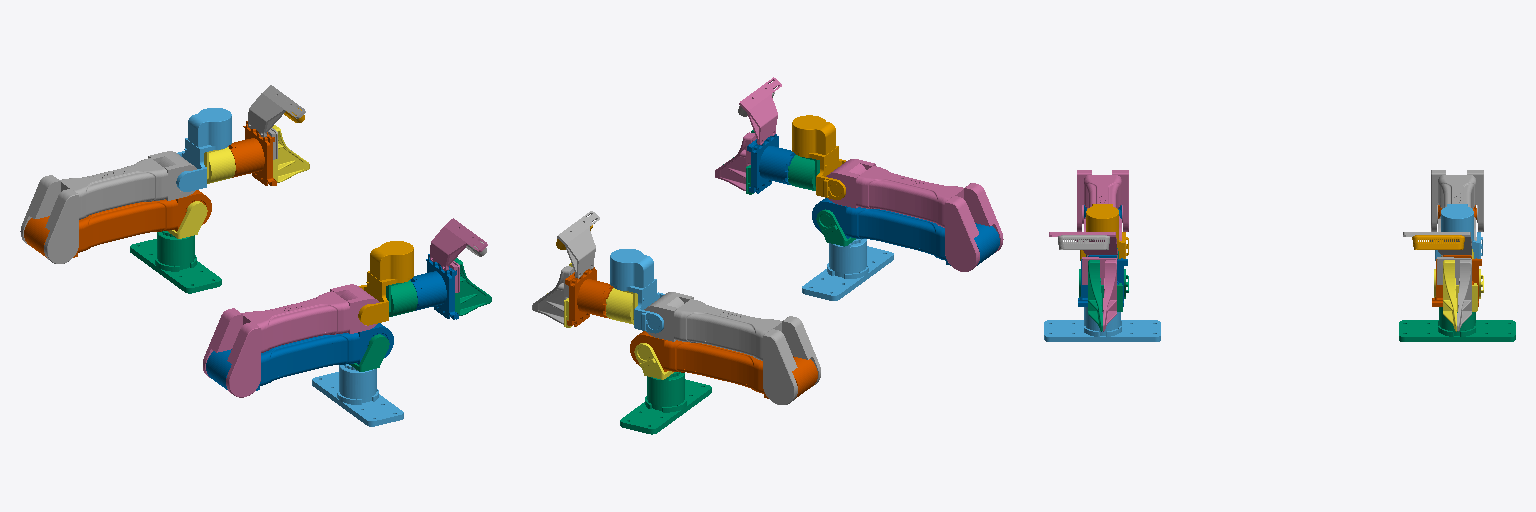
--- Render facts (derived) ---
3 views of the same robot in one strip: view 1: azimuth 30°, elevation 25°; view 2: azimuth 150°, elevation 25°; view 3: azimuth 270°, elevation 25° (orthographic).
Model rtop_design with 48 links and 47 joints (12 revolute, 4 prismatic, 31 fixed), rooted at world, posed all joints at 0.
Visible links, largest first — view 1: right_link_3, left_link_3, right_link_2, left_link_2, right_arm, left_arm, left_link_4, right_link_4, left_link_6, right_link_6, left_camera_support, right_camera_support (+6 smaller); view 2: left_link_3, right_link_3, left_link_2, right_link_2, right_arm, left_arm, left_link_4, right_link_4, right_link_6, left_link_6, right_camera_support, left_camera_support (+6 smaller); view 3: left_arm, right_arm, left_link_3, right_link_3, left_link_left_finger, right_link_left_finger, right_link_4, left_link_4, right_link_right_finger, left_link_right_finger, left_d435, right_d435 (+2 smaller).
Boxes of the visible links, left/top/right/bottom form: right_link_3: left=203, top=284, right=379, bottom=397; left_link_3: left=20, top=151, right=196, bottom=263; right_link_2: left=206, top=323, right=393, bottom=390; left_link_2: left=24, top=190, right=211, bottom=257; right_arm: left=312, top=364, right=403, bottom=426; left_arm: left=130, top=231, right=221, bottom=293; left_link_4: left=176, top=108, right=231, bottom=191; right_link_4: left=358, top=241, right=413, bottom=325; left_link_6: left=228, top=121, right=276, bottom=185; right_link_6: left=410, top=254, right=458, bottom=319; left_camera_support: left=248, top=85, right=305, bottom=137; right_camera_support: left=430, top=218, right=487, bottom=270; left_link_3: left=644, top=292, right=820, bottom=404; right_link_3: left=826, top=159, right=1003, bottom=271; left_link_2: left=630, top=331, right=817, bottom=398; right_link_2: left=812, top=198, right=999, bottom=265; right_arm: left=802, top=239, right=893, bottom=300; left_arm: left=620, top=372, right=711, bottom=434; left_link_4: left=610, top=249, right=664, bottom=333; right_link_4: left=792, top=115, right=845, bottom=199; right_link_6: left=747, top=134, right=795, bottom=193; left_link_6: left=565, top=267, right=613, bottom=326; right_camera_support: left=739, top=77, right=781, bottom=144; left_camera_support: left=557, top=211, right=599, bottom=278; left_arm: left=1399, top=307, right=1515, bottom=341; right_arm: left=1044, top=307, right=1160, bottom=341; left_link_3: left=1431, top=170, right=1483, bottom=240; right_link_3: left=1077, top=170, right=1128, bottom=240; left_link_left_finger: left=1437, top=257, right=1471, bottom=331; right_link_left_finger: left=1082, top=257, right=1116, bottom=331; right_link_4: left=1080, top=204, right=1128, bottom=260; left_link_4: left=1435, top=204, right=1482, bottom=260; right_link_right_finger: left=1088, top=260, right=1122, bottom=331; left_link_right_finger: left=1443, top=260, right=1477, bottom=331; left_d435: left=1412, top=235, right=1464, bottom=249; right_d435: left=1058, top=235, right=1109, bottom=249.
Bounding box of the posed robot: 0.5326 × 0.81 × 0.2846 m (x, y, z).
Meshes: 20 distinct files referenced, 38 mesh visuals loaded (1 binary STL, 18 OBJ); not drawn: 1 (reference not matched to a file when rendering).

The robot description file, URDF, robot "rtop_design":
<?xml version="1.0" ?>
<!-- =================================================================================== -->
<!-- |    This document was autogenerated by xacro from rtop_design.urdf.xacro         | -->
<!-- |    EDITING THIS FILE BY HAND IS NOT RECOMMENDED                                 | -->
<!-- =================================================================================== -->
<robot name="rtop_design">
  <!-- Base link (body) -->
  <link name="base">
    <inertial>
      <origin rpy="0.0 0.0 1.5708" xyz="0.0 0.0 0.0"/>
      <mass value="10.0"/>
      <inertia ixx="1.0" ixy="0" ixz="0" iyy="1.0" iyz="0" izz="1.0"/>
    </inertial>
    <visual name="base_visual">
      <origin rpy="0.0 0.0 1.5708" xyz="0.0 0.0 0.0"/>
      <geometry>
        <mesh filename="package://rtop_description/meshes/body_design.obj"/>
      </geometry>
    </visual>
    <collision name="base_collision">
      <origin rpy="0.0 0.0 1.5708" xyz="0.0 0.0 0.0"/>
      <geometry>
        <mesh filename="package://rtop_description/meshes/body_design.obj"/>
      </geometry>
    </collision>
  </link>
  <!-- World link -->
  <link name="world">
    <inertial>
      <origin rpy="0.0 0.0 0.0" xyz="0.0 0.0 0.0"/>
      <mass value="0.0"/>
      <inertia ixx="0.0" ixy="0" ixz="0" iyy="0.0" iyz="0" izz="0.0"/>
    </inertial>
  </link>
  <!-- Joint from world to base -->
  <joint name="world_to_base" type="fixed">
    <parent link="world"/>
    <child link="base"/>
    <origin rpy="0.0 0.0 0.0" xyz="0.0 0.0 0.0"/>
  </joint>
  <!-- Arm base link -->
  <link name="left_arm">
    <inertial>
      <origin rpy="0.0 0.0 0.0" xyz="0.0 0.0 0.026"/>
      <mass value="0.21895644158459424"/>
      <inertia ixx="0.00013879124248906134" ixy="0" ixz="0" iyy="0.00013879124248906134" iyz="0" izz="0.00010282878735692499"/>
    </inertial>
    <visual name="left_model2">
      <origin rpy="1.5701130102263443 0.005344186766801151 -3.1414365496107033" xyz="-2.0738360577213484e-05 2.041311002275178e-05 0.01154286287615687"/>
      <geometry>
        <mesh filename="package://yam_arm_description/meshes/converted_model2_808080ff.obj"/>
      </geometry>
    </visual>
    <collision name="left_model2_collision">
      <origin rpy="1.5701130102263443 0.005344186766801151 -3.1414365496107033" xyz="-2.0738360577213484e-05 2.041311002275178e-05 0.01154286287615687"/>
      <geometry>
        <mesh filename="package://yam_arm_description/meshes/converted_model2_808080ff.obj"/>
      </geometry>
    </collision>
  </link>
  <joint name="left_parent2arm_fixed" type="fixed">
    <parent link="base"/>
    <child link="left_arm"/>
    <origin rpy="0.0 0.0 0.0" xyz="0.0 0.305 1.0"/>
  </joint>
  <!-- Link 1 -->
  <link name="left_link_1">
    <inertial>
      <origin rpy="1.6743480392523338 -0.6015439689011491 1.5666873963753192" xyz="-0.00192861 -0.00795735 0.0208176"/>
      <mass value="0.12415"/>
      <inertia ixx="0.000180751" ixy="0" ixz="0" iyy="0.000145532" iyz="0" izz="5.89179e-05"/>
    </inertial>
    <visual name="left_model2__2">
      <origin rpy="1.5650454550240567 -0.6317582807873867 1.5710673633815686" xyz="0.0007117901440024366 -0.008267794027987337 0.022250179687008112"/>
      <geometry>
        <mesh filename="package://yam_arm_description/meshes/converted_model2__2_808080ff.obj"/>
      </geometry>
    </visual>
    <collision name="left_model2__2_collision">
      <origin rpy="1.5650454550240567 -0.6317582807873867 1.5710673633815686" xyz="0.0007117901440024366 -0.008267794027987337 0.022250179687008112"/>
      <geometry>
        <mesh filename="package://yam_arm_description/meshes/converted_model2__2_808080ff.obj"/>
      </geometry>
    </collision>
  </link>
  <link name="left_joint1_link">
    <inertial>
      <origin rpy="0.0 0.0 0.0" xyz="0.0 0.0 0.0"/>
      <mass value="0.001"/>
      <inertia ixx="1e-09" ixy="0" ixz="0" iyy="1e-09" iyz="0" izz="1e-09"/>
    </inertial>
  </link>
  <joint name="left_joint1" type="revolute">
    <parent link="left_arm"/>
    <child link="left_joint1_link"/>
    <origin rpy="0.0 0.0 1.5707963267948963" xyz="0.0 0.0 0.0631"/>
    <axis xyz="0.0 0.0 1.0"/>
    <limit effort="100" lower="-2.61799" upper="3.05433" velocity="100"/>
  </joint>
  <joint name="left_joint1_offset" type="fixed">
    <parent link="left_joint1_link"/>
    <child link="left_link_1"/>
    <origin rpy="0.0 0.0 0.0" xyz="-0.0 -0.0 -0.0"/>
  </joint>
  <!-- Link 2 -->
  <link name="left_link_2">
    <inertial>
      <origin rpy="1.5707963267948966 0.0 1.5707963267948966" xyz="0.132008 2.10599e-06 0.000293073"/>
      <mass value="1.24434"/>
      <inertia ixx="0.0121902" ixy="0" ixz="0" iyy="0.0121318" iyz="0" izz="0.000683304"/>
    </inertial>
    <visual name="left_model2__3">
      <origin rpy="0.0012886015838013758 0.0 1.5707963267948966" xyz="0.26007948449650414 2.5977632368834325e-07 0.00022869283697025413"/>
      <geometry>
        <mesh filename="package://yam_arm_description/meshes/converted_model2__3_808080ff.obj"/>
      </geometry>
    </visual>
    <collision name="left_model2__3_collision">
      <origin rpy="0.0012886015838013758 0.0 1.5707963267948966" xyz="0.26007948449650414 2.5977632368834325e-07 0.00022869283697025413"/>
      <geometry>
        <mesh filename="package://yam_arm_description/meshes/converted_model2__3_808080ff.obj"/>
      </geometry>
    </collision>
    <visual name="left_model2__4">
      <origin rpy="-0.0012886020855807743 0.0 1.5707963267948966" xyz="0.003920561027152974 2.5977629421192194e-07 0.00022869282878015162"/>
      <geometry>
        <mesh filename="package://yam_arm_description/meshes/converted_model2__4_808080ff.obj"/>
      </geometry>
    </visual>
    <collision name="left_model2__4_collision">
      <origin rpy="-0.0012886020855807743 0.0 1.5707963267948966" xyz="0.003920561027152974 2.5977629421192194e-07 0.00022869282878015162"/>
      <geometry>
        <mesh filename="package://yam_arm_description/meshes/converted_model2__4_808080ff.obj"/>
      </geometry>
    </collision>
    <visual name="left_model2__5">
      <origin rpy="1.5720341600620127 -1.5679213575591051 -1.5720413321413815" xyz="0.1320117461361114 -1.306943646950387e-05 9.079293692478702e-08"/>
      <geometry>
        <mesh filename="package://yam_arm_description/meshes/converted_model2__5_808080ff.obj"/>
      </geometry>
    </visual>
    <collision name="left_model2__5_collision">
      <origin rpy="1.5720341600620127 -1.5679213575591051 -1.5720413321413815" xyz="0.1320117461361114 -1.306943646950387e-05 9.079293692478702e-08"/>
      <geometry>
        <mesh filename="package://yam_arm_description/meshes/converted_model2__5_808080ff.obj"/>
      </geometry>
    </collision>
  </link>
  <link name="left_joint2_link">
    <inertial>
      <origin rpy="0.0 0.0 0.0" xyz="0.0 0.0 0.0"/>
      <mass value="0.001"/>
      <inertia ixx="1e-09" ixy="0" ixz="0" iyy="1e-09" iyz="0" izz="1e-09"/>
    </inertial>
  </link>
  <joint name="left_joint2" type="revolute">
    <parent link="left_link_1"/>
    <child link="left_joint2_link"/>
    <origin rpy="1.5707963267948966 0.0 1.5707963267948966" xyz="2.5e-05 -0.02 0.0409"/>
    <axis xyz="0.0 0.0 1.0"/>
    <limit effort="300" lower="-1.0e-03" upper="3.66519" velocity="100"/>
  </joint>
  <joint name="left_joint2_offset" type="fixed">
    <parent link="left_joint2_link"/>
    <child link="left_link_2"/>
    <origin rpy="0.0 0.0 0.0" xyz="-0.0 -0.0 -0.0"/>
  </joint>
  <!-- Link 3 -->
  <link name="left_link_3">
    <inertial>
      <origin rpy="1.5707963267948966 0.0 1.5707963267948966" xyz="-0.121816 -0.054846 -0.000111108"/>
      <mass value="0.853698"/>
      <inertia ixx="0.00699732" ixy="0" ixz="0" iyy="0.00696112" iyz="0" izz="0.000788244"/>
    </inertial>
    <visual name="left_model2__6">
      <origin rpy="3.0364915071378875 0.0 -1.5707963267948968" xyz="-0.24063976713274154 -0.059999782142154706 -0.003760273578300405"/>
      <geometry>
        <mesh filename="package://yam_arm_description/meshes/converted_model2__6_808080ff.obj"/>
      </geometry>
    </visual>
    <collision name="left_model2__6_collision">
      <origin rpy="3.0364915071378875 0.0 -1.5707963267948968" xyz="-0.24063976713274154 -0.059999782142154706 -0.003760273578300405"/>
      <geometry>
        <mesh filename="package://yam_arm_description/meshes/converted_model2__6_808080ff.obj"/>
      </geometry>
    </collision>
    <visual name="left_model2__7">
      <origin rpy="-2.87879006743723 1.4720957652931421 1.6013719605643306" xyz="-0.007710009148021196 -0.03486048010433765 0.0347071645682882"/>
      <geometry>
        <mesh filename="package://yam_arm_description/meshes/converted_model2__7_808080ff.obj"/>
      </geometry>
    </visual>
    <collision name="left_model2__7_collision">
      <origin rpy="-2.87879006743723 1.4720957652931421 1.6013719605643306" xyz="-0.007710009148021196 -0.03486048010433765 0.0347071645682882"/>
      <geometry>
        <mesh filename="package://yam_arm_description/meshes/converted_model2__7_808080ff.obj"/>
      </geometry>
    </collision>
    <visual name="left_model2__8">
      <origin rpy="1.5707945314613085 0.0026832997041226214 -1.570809065297576" xyz="-0.1206720859561709 -0.06001334031535149 5.408345552423209e-07"/>
      <geometry>
        <mesh filename="package://yam_arm_description/meshes/converted_model2__8_808080ff.obj"/>
      </geometry>
    </visual>
    <collision name="left_model2__8_collision">
      <origin rpy="1.5707945314613085 0.0026832997041226214 -1.570809065297576" xyz="-0.1206720859561709 -0.06001334031535149 5.408345552423209e-07"/>
      <geometry>
        <mesh filename="package://yam_arm_description/meshes/converted_model2__8_808080ff.obj"/>
      </geometry>
    </collision>
    <visual name="left_model2__9">
      <origin rpy="0.28836143122615043 1.443690062944695 -1.515041718980295" xyz="-0.008240431625057998 -0.03737256683266851 -0.033699619180835645"/>
      <geometry>
        <mesh filename="package://yam_arm_description/meshes/converted_model2__9_808080ff.obj"/>
      </geometry>
    </visual>
    <collision name="left_model2__9_collision">
      <origin rpy="0.28836143122615043 1.443690062944695 -1.515041718980295" xyz="-0.008240431625057998 -0.03737256683266851 -0.033699619180835645"/>
      <geometry>
        <mesh filename="package://yam_arm_description/meshes/converted_model2__9_808080ff.obj"/>
      </geometry>
    </collision>
  </link>
  <link name="left_joint3_link">
    <inertial>
      <origin rpy="0.0 0.0 0.0" xyz="0.0 0.0 0.0"/>
      <mass value="0.001"/>
      <inertia ixx="1e-09" ixy="0" ixz="0" iyy="1e-09" iyz="0" izz="1e-09"/>
    </inertial>
  </link>
  <joint name="left_joint3" type="revolute">
    <parent link="left_link_2"/>
    <child link="left_joint3_link"/>
    <origin rpy="3.141592653589793 0.0 0.0" xyz="0.264 0.0 0.0"/>
    <axis xyz="0.0 0.0 1.0"/>
    <limit effort="300" lower="-1.0e-03" upper="3.66519" velocity="100"/>
  </joint>
  <joint name="left_joint3_offset" type="fixed">
    <parent link="left_joint3_link"/>
    <child link="left_link_3"/>
    <origin rpy="0.0 0.0 0.0" xyz="-0.0 -0.0 -0.0"/>
  </joint>
  <!-- Link 4 -->
  <link name="left_link_4">
    <inertial>
      <origin rpy="1.5707963267948966 0.0 -0.6801532411309218" xyz="-0.0769778 -0.0527104 0.000154878"/>
      <mass value="0.463511"/>
      <inertia ixx="0.000791532" ixy="0" ixz="0" iyy="0.000744733" iyz="0" izz="0.000282116"/>
    </inertial>
    <visual name="left_model2__10">
      <origin rpy="1.5394854457020648 0.021662003917252814 -0.7117475435376935" xyz="-0.046776068687813616 -0.038270471745625256 -0.0008915243508352188"/>
      <geometry>
        <mesh filename="package://yam_arm_description/meshes/converted_model2__10_808080ff.obj"/>
      </geometry>
    </visual>
    <collision name="left_model2__10_collision">
      <origin rpy="1.5394854457020648 0.021662003917252814 -0.7117475435376935" xyz="-0.046776068687813616 -0.038270471745625256 -0.0008915243508352188"/>
      <geometry>
        <mesh filename="package://yam_arm_description/meshes/converted_model2__10_808080ff.obj"/>
      </geometry>
    </collision>
  </link>
  <link name="left_joint4_link">
    <inertial>
      <origin rpy="0.0 0.0 0.0" xyz="0.0 0.0 0.0"/>
      <mass value="0.001"/>
      <inertia ixx="1e-09" ixy="0" ixz="0" iyy="1e-09" iyz="0" izz="1e-09"/>
    </inertial>
  </link>
  <joint name="left_joint4" type="revolute">
    <parent link="left_link_3"/>
    <child link="left_joint4_link"/>
    <origin rpy="0.0 0.0 0.0" xyz="-0.245 -0.06 0.0"/>
    <axis xyz="0.0 0.0 1.0"/>
    <limit effort="100" lower="-1.5708" upper="1.5708" velocity="100"/>
  </joint>
  <joint name="left_joint4_offset" type="fixed">
    <parent link="left_joint4_link"/>
    <child link="left_link_4"/>
    <origin rpy="0.0 0.0 0.0" xyz="-0.0 -0.0 -0.0"/>
  </joint>
  <!-- Link 5 -->
  <link name="left_link_5">
    <inertial>
      <origin rpy="0.0 0.0 0.0" xyz="3.64861e-05 0.00025665 0.0353526"/>
      <mass value="0.350962"/>
      <inertia ixx="0.000197802" ixy="0" ixz="0" iyy="0.0001775" iyz="0" izz="0.000147402"/>
    </inertial>
    <visual name="left_model2__11">
      <origin rpy="2.67318045036048 0.0016544870659682687 -0.01152938218496731" xyz="5.815639855540116e-05 -0.0005553836621680353 0.03206235288381598"/>
      <geometry>
        <mesh filename="package://yam_arm_description/meshes/converted_model2__11_808080ff.obj"/>
      </geometry>
    </visual>
    <collision name="left_model2__11_collision">
      <origin rpy="2.67318045036048 0.0016544870659682687 -0.01152938218496731" xyz="5.815639855540116e-05 -0.0005553836621680353 0.03206235288381598"/>
      <geometry>
        <mesh filename="package://yam_arm_description/meshes/converted_model2__11_808080ff.obj"/>
      </geometry>
    </collision>
  </link>
  <link name="left_joint5_link">
    <inertial>
      <origin rpy="0.0 0.0 0.0" xyz="0.0 0.0 0.0"/>
      <mass value="0.001"/>
      <inertia ixx="1e-09" ixy="0" ixz="0" iyy="1e-09" iyz="0" izz="1e-09"/>
    </inertial>
  </link>
  <joint name="left_joint5" type="revolute">
    <parent link="left_link_4"/>
    <child link="left_joint5_link"/>
    <origin rpy="-1.5707963267948966 1.5707963267948966 0.0" xyz="-0.074 -0.0395 2.5e-05"/>
    <axis xyz="0.0 0.0 1.0"/>
    <limit effort="100" lower="-1.5708" upper="1.5708" velocity="100"/>
  </joint>
  <joint name="left_joint5_offset" type="fixed">
    <parent link="left_joint5_link"/>
    <child link="left_link_5"/>
    <origin rpy="0.0 0.0 0.0" xyz="-0.0 -0.0 -0.0"/>
  </joint>
  <!-- Link 6 -->
  <link name="left_link_6">
    <inertial>
      <origin rpy="1.5707963267948963 0.0 0.0" xyz="-0.000217767 7.37059e-05 0.0270545"/>
      <mass value="0.367476"/>
      <inertia ixx="0.000265958" ixy="0" ixz="0" iyy="0.000242686" iyz="0" izz="0.000227409"/>
    </inertial>
    <visual name="left_model2__12">
      <origin rpy="-1.7453668887584697 1.565490971850807 -1.9699125405676954" xyz="8.788302043375991e-05 0.0001190912220788709 0.05116721790419726"/>
      <geometry>
        <mesh filename="package://yam_arm_description/meshes/converted_model2__12_808080ff.obj"/>
      </geometry>
    </visual>
    <collision name="left_model2__12_collision">
      <origin rpy="-1.7453668887584697 1.565490971850807 -1.9699125405676954" xyz="8.788302043375991e-05 0.0001190912220788709 0.05116721790419726"/>
      <geometry>
        <mesh filename="package://yam_arm_description/meshes/converted_model2__12_808080ff.obj"/>
      </geometry>
    </collision>
    <visual name="left_model2__13">
      <origin rpy="-1.5799559470247646 0.8170286688385331 -0.14641337505452354" xyz="-0.00017825474995774047 1.6195054943213272e-05 0.03422382038141725"/>
      <geometry>
        <mesh filename="package://yam_arm_description/meshes/converted_model2__13_808080ff.obj"/>
      </geometry>
    </visual>
    <collision name="left_model2__13_collision">
      <origin rpy="-1.5799559470247646 0.8170286688385331 -0.14641337505452354" xyz="-0.00017825474995774047 1.6195054943213272e-05 0.03422382038141725"/>
      <geometry>
        <mesh filename="package://yam_arm_description/meshes/converted_model2__13_808080ff.obj"/>
      </geometry>
    </collision>
  </link>
  <link name="left_joint6_link">
    <inertial>
      <origin rpy="0.0 0.0 0.0" xyz="0.0 0.0 0.0"/>
      <mass value="0.001"/>
      <inertia ixx="1e-09" ixy="0" ixz="0" iyy="1e-09" iyz="0" izz="1e-09"/>
    </inertial>
  </link>
  <joint name="left_joint6" type="revolute">
    <parent link="left_link_5"/>
    <child link="left_joint6_link"/>
    <origin rpy="-1.5707963267948963 0.0 0.0" xyz="0.0 0.0353 0.0395"/>
    <axis xyz="0.0 0.0 1.0"/>
    <limit effort="100" lower="-2.0944" upper="2.0944" velocity="100"/>
  </joint>
  <joint name="left_joint6_offset" type="fixed">
    <parent link="left_joint6_link"/>
    <child link="left_link_6"/>
    <origin rpy="0.0 0.0 0.0" xyz="-0.0 -0.0 -0.0"/>
  </joint>
  <!-- Gripper: Left Finger -->
  <link name="left_link_left_finger">
    <inertial>
      <origin rpy="1.401155911297378 -0.506095322833723 -0.42940521230428" xyz="-0.0192995 -0.0365902 0.039774"/>
      <mass value="0.118"/>
      <inertia ixx="0.000159084" ixy="0" ixz="0" iyy="0.000154909" iyz="0" izz="4.63655e-05"/>
    </inertial>
    <visual name="left_model2__14">
      <origin rpy="1.2436149090470108 -1.3351755324428634 3.1192068678405445" xyz="-0.02621919095860112 -0.050961301789609365 0.04847966761952425"/>
      <geometry>
        <mesh filename="package://yam_arm_description/meshes/converted_model2__14_808080ff.obj"/>
      </geometry>
    </visual>
    <collision name="left_model2__14_collision">
      <origin rpy="1.2436149090470108 -1.3351755324428634 3.1192068678405445" xyz="-0.02621919095860112 -0.050961301789609365 0.04847966761952425"/>
      <geometry>
        <mesh filename="package://yam_arm_description/meshes/converted_model2__14_808080ff.obj"/>
      </geometry>
    </collision>
    <visual name="left_model2__15">
      <origin rpy="-0.08499655397451025 -0.08210615684708134 0.012014286826329146" xyz="-0.0018267628293356375 -0.014013453565219658 0.02860778296204746"/>
      <geometry>
        <mesh filename="package://yam_arm_description/meshes/converted_model2__15_808080ff.obj"/>
      </geometry>
    </visual>
    <collision name="left_model2__15_collision">
      <origin rpy="-0.08499655397451025 -0.08210615684708134 0.012014286826329146" xyz="-0.0018267628293356375 -0.014013453565219658 0.02860778296204746"/>
      <geometry>
        <mesh filename="package://yam_arm_description/meshes/converted_model2__15_808080ff.obj"/>
      </geometry>
    </collision>
  </link>
  <link name="left_left_finger_link">
    <inertial>
      <origin rpy="0.0 0.0 0.0" xyz="0.0 0.0 0.0"/>
      <mass value="0.001"/>
      <inertia ixx="1e-09" ixy="0" ixz="0" iyy="1e-09" iyz="0" izz="1e-09"/>
    </inertial>
  </link>
  <joint name="left_left_finger" type="prismatic">
    <parent link="left_link_6"/>
    <child link="left_left_finger_link"/>
    <origin rpy="-0.0 1.5707963267948966 0.0" xyz="-0.037 0.0392 0.0605"/>
    <axis xyz="0.0 0.0 1.0"/>
    <limit effort="100" lower="-0.00205" upper="0.037524" velocity="100"/>
  </joint>
  <joint name="left_left_finger_offset" type="fixed">
    <parent link="left_left_finger_link"/>
    <child link="left_link_left_finger"/>
    <origin rpy="0.0 0.0 0.0" xyz="-0.0 -0.0 -0.0"/>
  </joint>
  <link name="left_lf_rot">
    <inertial>
      <origin rpy="2.03719733945046 0.34503462898803194 1.5781769326774222" xyz="-0.008421052631578949 -0.015789473684210527 0.020421052631578947"/>
      <mass value="0.039793506945470715"/>
      <inertia ixx="2.3910376870188726e-05" ixy="0" ixz="0" iyy="2.0730203360923295e-05" iyz="0" izz="5.660176249101842e-06"/>
    </inertial>
  </link>
  <joint name="left_link_left_finger2lf_rot_fixed" type="fixed">
    <parent link="left_link_left_finger"/>
    <child link="left_lf_rot"/>
    <origin rpy="-1.5707963267948966 0.0 1.5707963267948966" xyz="0.0 -0.0392 0.037"/>
  </joint>
  <link name="left_lf_down">
    <inertial>
      <origin rpy="0.25192924677866 0.2603701692584921 1.7911531458129852" xyz="0.004865675005941529 -0.012786258560154471 0.029346031921652322"/>
      <mass value="0.02077574023677297"/>
      <inertia ixx="1.5767067212852193e-05" ixy="0" ixz="0" iyy="1.3071054583294231e-05" iyz="0" izz="3.94367471938606e-06"/>
    </inertial>
  </link>
  <joint name="left_lf_rot2lf_down_fixed" type="fixed">
    <parent link="left_lf_rot"/>
    <child link="left_lf_down"/>
    <origin rpy="0.0 0.0 0.0" xyz="-0.044 0.0 0.0"/>
  </joint>
  <!-- Gripper: Right Finger -->
  <link name="left_link_right_finger">
    <inertial>
      <origin rpy="-1.401155911297378 0.506095322833723 -0.42940521230428" xyz="-0.0192995 0.0365902 -0.039774"/>
      <mass value="0.118"/>
      <inertia ixx="0.000159084" ixy="0" ixz="0" iyy="0.000154909" iyz="0" izz="4.63655e-05"/>
    </inertial>
    <visual name="left_model2__16">
      <origin rpy="-0.08499624911644794 0.08210615585822456 -0.012014239544932078" xyz="-0.001826763203738313 0.014013021507929144 -0.02860778467768097"/>
      <geometry>
        <mesh filename="package://yam_arm_description/meshes/converted_model2__16_808080ff.obj"/>
      </geometry>
    </visual>
    <collision name="left_model2__16_collision">
      <origin rpy="-0.08499624911644794 0.08210615585822456 -0.012014239544932078" xyz="-0.001826763203738313 0.014013021507929144 -0.02860778467768097"/>
      <geometry>
        <mesh filename="package://yam_arm_description/meshes/converted_model2__16_808080ff.obj"/>
      </geometry>
    </collision>
    <visual name="left_model2__17">
      <origin rpy="-1.8906094630983066 -1.338715519977303 -0.013733131456833558" xyz="-0.026152342123741346 0.026813733867866105 -0.04844908896546901"/>
      <geometry>
        <mesh filename="package://yam_arm_description/meshes/converted_model2__17_808080ff.obj"/>
      </geometry>
    </visual>
    <collision name="left_model2__17_collision">
      <origin rpy="-1.8906094630983066 -1.338715519977303 -0.013733131456833558" xyz="-0.026152342123741346 0.026813733867866105 -0.04844908896546901"/>
      <geometry>
        <mesh filename="package://yam_arm_description/meshes/converted_model2__17_808080ff.obj"/>
      </geometry>
    </collision>
  </link>
  <link name="left_right_finger_link">
    <inertial>
      <origin rpy="0.0 0.0 0.0" xyz="0.0 0.0 0.0"/>
      <mass value="0.001"/>
      <inertia ixx="1e-09" ixy="0" ixz="0" iyy="1e-09" iyz="0" izz="1e-09"/>
    </inertial>
  </link>
  <joint name="left_right_finger" type="prismatic">
    <parent link="left_link_6"/>
    <child link="left_right_finger_link"/>
    <origin rpy="-0.0 1.5707963267948966 0.0" xyz="0.037 -0.0392 0.0605"/>
    <axis xyz="0.0 0.0 1.0"/>
    <limit effort="100" lower="-0.037524" upper="0.00205" velocity="100"/>
    <mimic joint="left_left_finger" multiplier="-1" offset="0"/>
  </joint>
  <joint name="left_right_finger_offset" type="fixed">
    <parent link="left_right_finger_link"/>
    <child link="left_link_right_finger"/>
    <origin rpy="0.0 0.0 0.0" xyz="-0.0 -0.0 -0.0"/>
  </joint>
  <link name="left_rf_rot">
    <inertial>
      <origin rpy="1.1043953141393332 0.34503462898803194 1.563415720912371" xyz="0.008421052631578949 -0.015789473684210527 0.020421052631578947"/>
      <mass value="0.039793506945470715"/>
      <inertia ixx="2.3910376870188726e-05" ixy="0" ixz="0" iyy="2.0730203360923295e-05" iyz="0" izz="5.660176249101842e-06"/>
    </inertial>
  </link>
  <joint name="left_link_right_finger2rf_rot_fixed" type="fixed">
    <parent link="left_link_right_finger"/>
    <child link="left_rf_rot"/>
    <origin rpy="1.5707963267948966 0.0 -1.5707963267948966" xyz="0.0 0.0392 -0.037"/>
  </joint>
  <link name="left_rf_down">
    <inertial>
      <origin rpy="-0.25192924677866 0.2603701692584921 1.3504395077768079" xyz="-0.004865675005941529 -0.012786258560154471 0.029346031921652322"/>
      <mass value="0.02077574023677297"/>
      <inertia ixx="1.5767067212852193e-05" ixy="0" ixz="0" iyy="1.3071054583294231e-05" iyz="0" izz="3.94367471938606e-06"/>
    </inertial>
  </link>
  <joint name="left_rf_rot2rf_down_fixed" type="fixed">
    <parent link="left_rf_rot"/>
    <child link="left_rf_down"/>
    <origin rpy="0.0 0.0 0.0" xyz="0.044 0.0 0.0"/>
  </joint>
  <link name="left_camera_support">
    <inertial>
      <origin rpy="0.0 0.0 0.0" xyz="0.0 0.0 0.0"/>
      <mass value="0.1"/>
      <inertia ixx="0.0001" ixy="0" ixz="0" iyy="0.0001" iyz="0" izz="0.0001"/>
    </inertial>
    <visual name="left_camera_support_visual">
      <origin rpy="0.0 0.0 0.0" xyz="0.0 0.0 0.0"/>
      <geometry>
        <mesh filename="package://yam_arm_description/meshes/camera_support.stl"/>
      </geometry>
    </visual>
    <collision name="left_camera_support_collision">
      <origin rpy="0.0 0.0 0.0" xyz="0.0 0.0 0.0"/>
      <geometry>
        <mesh filename="package://yam_arm_description/meshes/camera_support.stl"/>
      </geometry>
    </collision>
  </link>
  <joint name="left_link_6_to_camera_support_fixed" type="fixed">
    <parent link="left_link_6"/>
    <child link="left_camera_support"/>
    <origin rpy="1.5708 1.5708 3.14159" xyz="-0.02618 0.04089 0.05052"/>
  </joint>
  <link name="left_d435">
    <inertial>
      <origin rpy="0.0 0.0 0.0" xyz="0.0 0.0 0.0"/>
      <mass value="0.072"/>
      <inertia ixx="0.0001" ixy="0" ixz="0" iyy="0.0001" iyz="0" izz="0.0001"/>
    </inertial>
    <visual name="left_d435_visual">
      <origin rpy="0.0 0.0 0.0" xyz="0.0 0.0 0.0"/>
      <geometry>
        <mesh filename="package://yam_arm_description/meshes/D435.obj"/>
      </geometry>
    </visual>
    <collision name="left_d435_collision">
      <origin rpy="0.0 0.0 0.0" xyz="0.0 0.0 0.0"/>
      <geometry>
        <mesh filename="package://yam_arm_description/meshes/D435.obj"/>
      </geometry>
    </collision>
  </link>
  <joint name="left_camera_support2d435_fixed" type="fixed">
    <parent link="left_camera_support"/>
    <child link="left_d435"/>
    <origin rpy="2.6180 0.0 -1.5708" xyz="-0.03014 0.00604 0.06023"/>
  </joint>
  <!-- Arm base link -->
  <link name="right_arm">
    <inertial>
      <origin rpy="0.0 0.0 0.0" xyz="0.0 0.0 0.026"/>
      <mass value="0.21895644158459424"/>
      <inertia ixx="0.00013879124248906134" ixy="0" ixz="0" iyy="0.00013879124248906134" iyz="0" izz="0.00010282878735692499"/>
    </inertial>
    <visual name="right_model2">
      <origin rpy="1.5701130102263443 0.005344186766801151 -3.1414365496107033" xyz="-2.0738360577213484e-05 2.041311002275178e-05 0.01154286287615687"/>
      <geometry>
        <mesh filename="package://yam_arm_description/meshes/converted_model2_808080ff.obj"/>
      </geometry>
    </visual>
    <collision name="right_model2_collision">
      <origin rpy="1.5701130102263443 0.005344186766801151 -3.1414365496107033" xyz="-2.0738360577213484e-05 2.041311002275178e-05 0.01154286287615687"/>
      <geometry>
        <mesh filename="package://yam_arm_description/meshes/converted_model2_808080ff.obj"/>
      </geometry>
    </collision>
  </link>
  <joint name="right_parent2arm_fixed" type="fixed">
    <parent link="base"/>
    <child link="right_arm"/>
    <origin rpy="0.0 0.0 0.0" xyz="0.0 -0.305 1.0"/>
  </joint>
  <!-- Link 1 -->
  <link name="right_link_1">
    <inertial>
      <origin rpy="1.6743480392523338 -0.6015439689011491 1.5666873963753192" xyz="-0.00192861 -0.00795735 0.0208176"/>
      <mass value="0.12415"/>
      <inertia ixx="0.000180751" ixy="0" ixz="0" iyy="0.000145532" iyz="0" izz="5.89179e-05"/>
    </inertial>
    <visual name="right_model2__2">
      <origin rpy="1.5650454550240567 -0.6317582807873867 1.5710673633815686" xyz="0.0007117901440024366 -0.008267794027987337 0.022250179687008112"/>
      <geometry>
        <mesh filename="package://yam_arm_description/meshes/converted_model2__2_808080ff.obj"/>
      </geometry>
    </visual>
    <collision name="right_model2__2_collision">
      <origin rpy="1.5650454550240567 -0.6317582807873867 1.5710673633815686" xyz="0.0007117901440024366 -0.008267794027987337 0.022250179687008112"/>
      <geometry>
        <mesh filename="package://yam_arm_description/meshes/converted_model2__2_808080ff.obj"/>
      </geometry>
    </collision>
  </link>
  <link name="right_joint1_link">
    <inertial>
      <origin rpy="0.0 0.0 0.0" xyz="0.0 0.0 0.0"/>
      <mass value="0.001"/>
      <inertia ixx="1e-09" ixy="0" ixz="0" iyy="1e-09" iyz="0" izz="1e-09"/>
    </inertial>
  </link>
  <joint name="right_joint1" type="revolute">
    <parent link="right_arm"/>
    <child link="right_joint1_link"/>
    <origin rpy="0.0 0.0 1.5707963267948963" xyz="0.0 0.0 0.0631"/>
    <axis xyz="0.0 0.0 1.0"/>
    <limit effort="100" lower="-2.61799" upper="3.05433" velocity="100"/>
  </joint>
  <joint name="right_joint1_offset" type="fixed">
    <parent link="right_joint1_link"/>
    <child link="right_link_1"/>
    <origin rpy="0.0 0.0 0.0" xyz="-0.0 -0.0 -0.0"/>
  </joint>
  <!-- Link 2 -->
  <link name="right_link_2">
    <inertial>
      <origin rpy="1.5707963267948966 0.0 1.5707963267948966" xyz="0.132008 2.10599e-06 0.000293073"/>
      <mass value="1.24434"/>
      <inertia ixx="0.0121902" ixy="0" ixz="0" iyy="0.0121318" iyz="0" izz="0.000683304"/>
    </inertial>
    <visual name="right_model2__3">
      <origin rpy="0.0012886015838013758 0.0 1.5707963267948966" xyz="0.26007948449650414 2.5977632368834325e-07 0.00022869283697025413"/>
      <geometry>
        <mesh filename="package://yam_arm_description/meshes/converted_model2__3_808080ff.obj"/>
      </geometry>
    </visual>
    <collision name="right_model2__3_collision">
      <origin rpy="0.0012886015838013758 0.0 1.5707963267948966" xyz="0.26007948449650414 2.5977632368834325e-07 0.00022869283697025413"/>
      <geometry>
        <mesh filename="package://yam_arm_description/meshes/converted_model2__3_808080ff.obj"/>
      </geometry>
    </collision>
    <visual name="right_model2__4">
      <origin rpy="-0.0012886020855807743 0.0 1.5707963267948966" xyz="0.003920561027152974 2.5977629421192194e-07 0.00022869282878015162"/>
      <geometry>
        <mesh filename="package://yam_arm_description/meshes/converted_model2__4_808080ff.obj"/>
      </geometry>
    </visual>
    <collision name="right_model2__4_collision">
      <origin rpy="-0.0012886020855807743 0.0 1.5707963267948966" xyz="0.003920561027152974 2.5977629421192194e-07 0.00022869282878015162"/>
      <geometry>
        <mesh filename="package://yam_arm_description/meshes/converted_model2__4_808080ff.obj"/>
      </geometry>
    </collision>
    <visual name="right_model2__5">
      <origin rpy="1.5720341600620127 -1.5679213575591051 -1.5720413321413815" xyz="0.1320117461361114 -1.306943646950387e-05 9.079293692478702e-08"/>
      <geometry>
        <mesh filename="package://yam_arm_description/meshes/converted_model2__5_808080ff.obj"/>
      </geometry>
    </visual>
    <collision name="right_model2__5_collision">
      <origin rpy="1.5720341600620127 -1.5679213575591051 -1.5720413321413815" xyz="0.1320117461361114 -1.306943646950387e-05 9.079293692478702e-08"/>
      <geometry>
        <mesh filename="package://yam_arm_description/meshes/converted_model2__5_808080ff.obj"/>
      </geometry>
    </collision>
  </link>
  <link name="right_joint2_link">
    <inertial>
      <origin rpy="0.0 0.0 0.0" xyz="0.0 0.0 0.0"/>
      <mass value="0.001"/>
      <inertia ixx="1e-09" ixy="0" ixz="0" iyy="1e-09" iyz="0" izz="1e-09"/>
    </inertial>
  </link>
  <joint name="right_joint2" type="revolute">
    <parent link="right_link_1"/>
    <child link="right_joint2_link"/>
    <origin rpy="1.5707963267948966 0.0 1.5707963267948966" xyz="2.5e-05 -0.02 0.0409"/>
    <axis xyz="0.0 0.0 1.0"/>
    <limit effort="300" lower="-1.0e-03" upper="3.66519" velocity="100"/>
  </joint>
  <joint name="right_joint2_offset" type="fixed">
    <parent link="right_joint2_link"/>
    <child link="right_link_2"/>
    <origin rpy="0.0 0.0 0.0" xyz="-0.0 -0.0 -0.0"/>
  </joint>
  <!-- Link 3 -->
  <link name="right_link_3">
    <inertial>
      <origin rpy="1.5707963267948966 0.0 1.5707963267948966" xyz="-0.121816 -0.054846 -0.000111108"/>
      <mass value="0.853698"/>
      <inertia ixx="0.00699732" ixy="0" ixz="0" iyy="0.00696112" iyz="0" izz="0.000788244"/>
    </inertial>
    <visual name="right_model2__6">
      <origin rpy="3.0364915071378875 0.0 -1.5707963267948968" xyz="-0.24063976713274154 -0.059999782142154706 -0.003760273578300405"/>
      <geometry>
        <mesh filename="package://yam_arm_description/meshes/converted_model2__6_808080ff.obj"/>
      </geometry>
    </visual>
    <collision name="right_model2__6_collision">
      <origin rpy="3.0364915071378875 0.0 -1.5707963267948968" xyz="-0.24063976713274154 -0.059999782142154706 -0.003760273578300405"/>
      <geometry>
        <mesh filename="package://yam_arm_description/meshes/converted_model2__6_808080ff.obj"/>
      </geometry>
    </collision>
    <visual name="right_model2__7">
      <origin rpy="-2.87879006743723 1.4720957652931421 1.6013719605643306" xyz="-0.007710009148021196 -0.03486048010433765 0.0347071645682882"/>
      <geometry>
        <mesh filename="package://yam_arm_description/meshes/converted_model2__7_808080ff.obj"/>
      </geometry>
    </visual>
    <collision name="right_model2__7_collision">
      <origin rpy="-2.87879006743723 1.4720957652931421 1.6013719605643306" xyz="-0.007710009148021196 -0.03486048010433765 0.0347071645682882"/>
      <geometry>
        <mesh filename="package://yam_arm_description/meshes/converted_model2__7_808080ff.obj"/>
      </geometry>
    </collision>
    <visual name="right_model2__8">
      <origin rpy="1.5707945314613085 0.0026832997041226214 -1.570809065297576" xyz="-0.1206720859561709 -0.06001334031535149 5.408345552423209e-07"/>
      <geometry>
        <mesh filename="package://yam_arm_description/meshes/converted_model2__8_808080ff.obj"/>
      </geometry>
    </visual>
    <collision name="right_model2__8_collision">
      <origin rpy="1.5707945314613085 0.0026832997041226214 -1.570809065297576" xyz="-0.1206720859561709 -0.06001334031535149 5.408345552423209e-07"/>
      <geometry>
        <mesh filename="package://yam_arm_description/meshes/converted_model2__8_808080ff.obj"/>
      </geometry>
    </collision>
    <visual name="right_model2__9">
      <origin rpy="0.28836143122615043 1.443690062944695 -1.515041718980295" xyz="-0.008240431625057998 -0.03737256683266851 -0.033699619180835645"/>
      <geometry>
        <mesh filename="package://yam_arm_description/meshes/converted_model2__9_808080ff.obj"/>
      </geometry>
    </visual>
    <collision name="right_model2__9_collision">
      <origin rpy="0.28836143122615043 1.443690062944695 -1.515041718980295" xyz="-0.008240431625057998 -0.03737256683266851 -0.033699619180835645"/>
      <geometry>
        <mesh filename="package://yam_arm_description/meshes/converted_model2__9_808080ff.obj"/>
      </geometry>
    </collision>
  </link>
  <link name="right_joint3_link">
    <inertial>
      <origin rpy="0.0 0.0 0.0" xyz="0.0 0.0 0.0"/>
      <mass value="0.001"/>
      <inertia ixx="1e-09" ixy="0" ixz="0" iyy="1e-09" iyz="0" izz="1e-09"/>
    </inertial>
  </link>
  <joint name="right_joint3" type="revolute">
    <parent link="right_link_2"/>
    <child link="right_joint3_link"/>
    <origin rpy="3.141592653589793 0.0 0.0" xyz="0.264 0.0 0.0"/>
    <axis xyz="0.0 0.0 1.0"/>
    <limit effort="300" lower="-1.0e-03" upper="3.66519" velocity="100"/>
  </joint>
  <joint name="right_joint3_offset" type="fixed">
    <parent link="right_joint3_link"/>
    <child link="right_link_3"/>
    <origin rpy="0.0 0.0 0.0" xyz="-0.0 -0.0 -0.0"/>
  </joint>
  <!-- Link 4 -->
  <link name="right_link_4">
    <inertial>
      <origin rpy="1.5707963267948966 0.0 -0.6801532411309218" xyz="-0.0769778 -0.0527104 0.000154878"/>
      <mass value="0.463511"/>
      <inertia ixx="0.000791532" ixy="0" ixz="0" iyy="0.000744733" iyz="0" izz="0.000282116"/>
    </inertial>
    <visual name="right_model2__10">
      <origin rpy="1.5394854457020648 0.021662003917252814 -0.7117475435376935" xyz="-0.046776068687813616 -0.038270471745625256 -0.0008915243508352188"/>
      <geometry>
        <mesh filename="package://yam_arm_description/meshes/converted_model2__10_808080ff.obj"/>
      </geometry>
    </visual>
    <collision name="right_model2__10_collision">
      <origin rpy="1.5394854457020648 0.021662003917252814 -0.7117475435376935" xyz="-0.046776068687813616 -0.038270471745625256 -0.0008915243508352188"/>
      <geometry>
        <mesh filename="package://yam_arm_description/meshes/converted_model2__10_808080ff.obj"/>
      </geometry>
    </collision>
  </link>
  <link name="right_joint4_link">
    <inertial>
      <origin rpy="0.0 0.0 0.0" xyz="0.0 0.0 0.0"/>
      <mass value="0.001"/>
      <inertia ixx="1e-09" ixy="0" ixz="0" iyy="1e-09" iyz="0" izz="1e-09"/>
    </inertial>
  </link>
  <joint name="right_joint4" type="revolute">
    <parent link="right_link_3"/>
    <child link="right_joint4_link"/>
    <origin rpy="0.0 0.0 0.0" xyz="-0.245 -0.06 0.0"/>
    <axis xyz="0.0 0.0 1.0"/>
    <limit effort="100" lower="-1.5708" upper="1.5708" velocity="100"/>
  </joint>
  <joint name="right_joint4_offset" type="fixed">
    <parent link="right_joint4_link"/>
    <child link="right_link_4"/>
    <origin rpy="0.0 0.0 0.0" xyz="-0.0 -0.0 -0.0"/>
  </joint>
  <!-- Link 5 -->
  <link name="right_link_5">
    <inertial>
      <origin rpy="0.0 0.0 0.0" xyz="3.64861e-05 0.00025665 0.0353526"/>
      <mass value="0.350962"/>
      <inertia ixx="0.000197802" ixy="0" ixz="0" iyy="0.0001775" iyz="0" izz="0.000147402"/>
    </inertial>
    <visual name="right_model2__11">
      <origin rpy="2.67318045036048 0.0016544870659682687 -0.01152938218496731" xyz="5.815639855540116e-05 -0.0005553836621680353 0.03206235288381598"/>
      <geometry>
        <mesh filename="package://yam_arm_description/meshes/converted_model2__11_808080ff.obj"/>
      </geometry>
    </visual>
    <collision name="right_model2__11_collision">
      <origin rpy="2.67318045036048 0.0016544870659682687 -0.01152938218496731" xyz="5.815639855540116e-05 -0.0005553836621680353 0.03206235288381598"/>
      <geometry>
        <mesh filename="package://yam_arm_description/meshes/converted_model2__11_808080ff.obj"/>
      </geometry>
    </collision>
  </link>
  <link name="right_joint5_link">
    <inertial>
      <origin rpy="0.0 0.0 0.0" xyz="0.0 0.0 0.0"/>
      <mass value="0.001"/>
      <inertia ixx="1e-09" ixy="0" ixz="0" iyy="1e-09" iyz="0" izz="1e-09"/>
    </inertial>
  </link>
  <joint name="right_joint5" type="revolute">
    <parent link="right_link_4"/>
    <child link="right_joint5_link"/>
    <origin rpy="-1.5707963267948966 1.5707963267948966 0.0" xyz="-0.074 -0.0395 2.5e-05"/>
    <axis xyz="0.0 0.0 1.0"/>
    <limit effort="100" lower="-1.5708" upper="1.5708" velocity="100"/>
  </joint>
  <joint name="right_joint5_offset" type="fixed">
    <parent link="right_joint5_link"/>
    <child link="right_link_5"/>
    <origin rpy="0.0 0.0 0.0" xyz="-0.0 -0.0 -0.0"/>
  </joint>
  <!-- Link 6 -->
  <link name="right_link_6">
    <inertial>
      <origin rpy="1.5707963267948963 0.0 0.0" xyz="-0.000217767 7.37059e-05 0.0270545"/>
      <mass value="0.367476"/>
      <inertia ixx="0.000265958" ixy="0" ixz="0" iyy="0.000242686" iyz="0" izz="0.000227409"/>
    </inertial>
    <visual name="right_model2__12">
      <origin rpy="-1.7453668887584697 1.565490971850807 -1.9699125405676954" xyz="8.788302043375991e-05 0.0001190912220788709 0.05116721790419726"/>
      <geometry>
        <mesh filename="package://yam_arm_description/meshes/converted_model2__12_808080ff.obj"/>
      </geometry>
    </visual>
    <collision name="right_model2__12_collision">
      <origin rpy="-1.7453668887584697 1.565490971850807 -1.9699125405676954" xyz="8.788302043375991e-05 0.0001190912220788709 0.05116721790419726"/>
      <geometry>
        <mesh filename="package://yam_arm_description/meshes/converted_model2__12_808080ff.obj"/>
      </geometry>
    </collision>
    <visual name="right_model2__13">
      <origin rpy="-1.5799559470247646 0.8170286688385331 -0.14641337505452354" xyz="-0.00017825474995774047 1.6195054943213272e-05 0.03422382038141725"/>
      <geometry>
        <mesh filename="package://yam_arm_description/meshes/converted_model2__13_808080ff.obj"/>
      </geometry>
    </visual>
    <collision name="right_model2__13_collision">
      <origin rpy="-1.5799559470247646 0.8170286688385331 -0.14641337505452354" xyz="-0.00017825474995774047 1.6195054943213272e-05 0.03422382038141725"/>
      <geometry>
        <mesh filename="package://yam_arm_description/meshes/converted_model2__13_808080ff.obj"/>
      </geometry>
    </collision>
  </link>
  <link name="right_joint6_link">
    <inertial>
      <origin rpy="0.0 0.0 0.0" xyz="0.0 0.0 0.0"/>
      <mass value="0.001"/>
      <inertia ixx="1e-09" ixy="0" ixz="0" iyy="1e-09" iyz="0" izz="1e-09"/>
    </inertial>
  </link>
  <joint name="right_joint6" type="revolute">
    <parent link="right_link_5"/>
    <child link="right_joint6_link"/>
    <origin rpy="-1.5707963267948963 0.0 0.0" xyz="0.0 0.0353 0.0395"/>
    <axis xyz="0.0 0.0 1.0"/>
    <limit effort="100" lower="-2.0944" upper="2.0944" velocity="100"/>
  </joint>
  <joint name="right_joint6_offset" type="fixed">
    <parent link="right_joint6_link"/>
    <child link="right_link_6"/>
    <origin rpy="0.0 0.0 0.0" xyz="-0.0 -0.0 -0.0"/>
  </joint>
  <!-- Gripper: Left Finger -->
  <link name="right_link_left_finger">
    <inertial>
      <origin rpy="1.401155911297378 -0.506095322833723 -0.42940521230428" xyz="-0.0192995 -0.0365902 0.039774"/>
      <mass value="0.118"/>
      <inertia ixx="0.000159084" ixy="0" ixz="0" iyy="0.000154909" iyz="0" izz="4.63655e-05"/>
    </inertial>
    <visual name="right_model2__14">
      <origin rpy="1.2436149090470108 -1.3351755324428634 3.1192068678405445" xyz="-0.02621919095860112 -0.050961301789609365 0.04847966761952425"/>
      <geometry>
        <mesh filename="package://yam_arm_description/meshes/converted_model2__14_808080ff.obj"/>
      </geometry>
    </visual>
    <collision name="right_model2__14_collision">
      <origin rpy="1.2436149090470108 -1.3351755324428634 3.1192068678405445" xyz="-0.02621919095860112 -0.050961301789609365 0.04847966761952425"/>
      <geometry>
        <mesh filename="package://yam_arm_description/meshes/converted_model2__14_808080ff.obj"/>
      </geometry>
    </collision>
    <visual name="right_model2__15">
      <origin rpy="-0.08499655397451025 -0.08210615684708134 0.012014286826329146" xyz="-0.0018267628293356375 -0.014013453565219658 0.02860778296204746"/>
      <geometry>
        <mesh filename="package://yam_arm_description/meshes/converted_model2__15_808080ff.obj"/>
      </geometry>
    </visual>
    <collision name="right_model2__15_collision">
      <origin rpy="-0.08499655397451025 -0.08210615684708134 0.012014286826329146" xyz="-0.0018267628293356375 -0.014013453565219658 0.02860778296204746"/>
      <geometry>
        <mesh filename="package://yam_arm_description/meshes/converted_model2__15_808080ff.obj"/>
      </geometry>
    </collision>
  </link>
  <link name="right_left_finger_link">
    <inertial>
      <origin rpy="0.0 0.0 0.0" xyz="0.0 0.0 0.0"/>
      <mass value="0.001"/>
      <inertia ixx="1e-09" ixy="0" ixz="0" iyy="1e-09" iyz="0" izz="1e-09"/>
    </inertial>
  </link>
  <joint name="right_left_finger" type="prismatic">
    <parent link="right_link_6"/>
    <child link="right_left_finger_link"/>
    <origin rpy="-0.0 1.5707963267948966 0.0" xyz="-0.037 0.0392 0.0605"/>
    <axis xyz="0.0 0.0 1.0"/>
    <limit effort="100" lower="-0.00205" upper="0.037524" velocity="100"/>
  </joint>
  <joint name="right_left_finger_offset" type="fixed">
    <parent link="right_left_finger_link"/>
    <child link="right_link_left_finger"/>
    <origin rpy="0.0 0.0 0.0" xyz="-0.0 -0.0 -0.0"/>
  </joint>
  <link name="right_lf_rot">
    <inertial>
      <origin rpy="2.03719733945046 0.34503462898803194 1.5781769326774222" xyz="-0.008421052631578949 -0.015789473684210527 0.020421052631578947"/>
      <mass value="0.039793506945470715"/>
      <inertia ixx="2.3910376870188726e-05" ixy="0" ixz="0" iyy="2.0730203360923295e-05" iyz="0" izz="5.660176249101842e-06"/>
    </inertial>
  </link>
  <joint name="right_link_left_finger2lf_rot_fixed" type="fixed">
    <parent link="right_link_left_finger"/>
    <child link="right_lf_rot"/>
    <origin rpy="-1.5707963267948966 0.0 1.5707963267948966" xyz="0.0 -0.0392 0.037"/>
  </joint>
  <link name="right_lf_down">
    <inertial>
      <origin rpy="0.25192924677866 0.2603701692584921 1.7911531458129852" xyz="0.004865675005941529 -0.012786258560154471 0.029346031921652322"/>
      <mass value="0.02077574023677297"/>
      <inertia ixx="1.5767067212852193e-05" ixy="0" ixz="0" iyy="1.3071054583294231e-05" iyz="0" izz="3.94367471938606e-06"/>
    </inertial>
  </link>
  <joint name="right_lf_rot2lf_down_fixed" type="fixed">
    <parent link="right_lf_rot"/>
    <child link="right_lf_down"/>
    <origin rpy="0.0 0.0 0.0" xyz="-0.044 0.0 0.0"/>
  </joint>
  <!-- Gripper: Right Finger -->
  <link name="right_link_right_finger">
    <inertial>
      <origin rpy="-1.401155911297378 0.506095322833723 -0.42940521230428" xyz="-0.0192995 0.0365902 -0.039774"/>
      <mass value="0.118"/>
      <inertia ixx="0.000159084" ixy="0" ixz="0" iyy="0.000154909" iyz="0" izz="4.63655e-05"/>
    </inertial>
    <visual name="right_model2__16">
      <origin rpy="-0.08499624911644794 0.08210615585822456 -0.012014239544932078" xyz="-0.001826763203738313 0.014013021507929144 -0.02860778467768097"/>
      <geometry>
        <mesh filename="package://yam_arm_description/meshes/converted_model2__16_808080ff.obj"/>
      </geometry>
    </visual>
    <collision name="right_model2__16_collision">
      <origin rpy="-0.08499624911644794 0.08210615585822456 -0.012014239544932078" xyz="-0.001826763203738313 0.014013021507929144 -0.02860778467768097"/>
      <geometry>
        <mesh filename="package://yam_arm_description/meshes/converted_model2__16_808080ff.obj"/>
      </geometry>
    </collision>
    <visual name="right_model2__17">
      <origin rpy="-1.8906094630983066 -1.338715519977303 -0.013733131456833558" xyz="-0.026152342123741346 0.026813733867866105 -0.04844908896546901"/>
      <geometry>
        <mesh filename="package://yam_arm_description/meshes/converted_model2__17_808080ff.obj"/>
      </geometry>
    </visual>
    <collision name="right_model2__17_collision">
      <origin rpy="-1.8906094630983066 -1.338715519977303 -0.013733131456833558" xyz="-0.026152342123741346 0.026813733867866105 -0.04844908896546901"/>
      <geometry>
        <mesh filename="package://yam_arm_description/meshes/converted_model2__17_808080ff.obj"/>
      </geometry>
    </collision>
  </link>
  <link name="right_right_finger_link">
    <inertial>
      <origin rpy="0.0 0.0 0.0" xyz="0.0 0.0 0.0"/>
      <mass value="0.001"/>
      <inertia ixx="1e-09" ixy="0" ixz="0" iyy="1e-09" iyz="0" izz="1e-09"/>
    </inertial>
  </link>
  <joint name="right_right_finger" type="prismatic">
    <parent link="right_link_6"/>
    <child link="right_right_finger_link"/>
    <origin rpy="-0.0 1.5707963267948966 0.0" xyz="0.037 -0.0392 0.0605"/>
    <axis xyz="0.0 0.0 1.0"/>
    <limit effort="100" lower="-0.037524" upper="0.00205" velocity="100"/>
    <mimic joint="right_left_finger" multiplier="-1" offset="0"/>
  </joint>
  <joint name="right_right_finger_offset" type="fixed">
    <parent link="right_right_finger_link"/>
    <child link="right_link_right_finger"/>
    <origin rpy="0.0 0.0 0.0" xyz="-0.0 -0.0 -0.0"/>
  </joint>
  <link name="right_rf_rot">
    <inertial>
      <origin rpy="1.1043953141393332 0.34503462898803194 1.563415720912371" xyz="0.008421052631578949 -0.015789473684210527 0.020421052631578947"/>
      <mass value="0.039793506945470715"/>
      <inertia ixx="2.3910376870188726e-05" ixy="0" ixz="0" iyy="2.0730203360923295e-05" iyz="0" izz="5.660176249101842e-06"/>
    </inertial>
  </link>
  <joint name="right_link_right_finger2rf_rot_fixed" type="fixed">
    <parent link="right_link_right_finger"/>
    <child link="right_rf_rot"/>
    <origin rpy="1.5707963267948966 0.0 -1.5707963267948966" xyz="0.0 0.0392 -0.037"/>
  </joint>
  <link name="right_rf_down">
    <inertial>
      <origin rpy="-0.25192924677866 0.2603701692584921 1.3504395077768079" xyz="-0.004865675005941529 -0.012786258560154471 0.029346031921652322"/>
      <mass value="0.02077574023677297"/>
      <inertia ixx="1.5767067212852193e-05" ixy="0" ixz="0" iyy="1.3071054583294231e-05" iyz="0" izz="3.94367471938606e-06"/>
    </inertial>
  </link>
  <joint name="right_rf_rot2rf_down_fixed" type="fixed">
    <parent link="right_rf_rot"/>
    <child link="right_rf_down"/>
    <origin rpy="0.0 0.0 0.0" xyz="0.044 0.0 0.0"/>
  </joint>
  <link name="right_camera_support">
    <inertial>
      <origin rpy="0.0 0.0 0.0" xyz="0.0 0.0 0.0"/>
      <mass value="0.1"/>
      <inertia ixx="0.0001" ixy="0" ixz="0" iyy="0.0001" iyz="0" izz="0.0001"/>
    </inertial>
    <visual name="right_camera_support_visual">
      <origin rpy="0.0 0.0 0.0" xyz="0.0 0.0 0.0"/>
      <geometry>
        <mesh filename="package://yam_arm_description/meshes/camera_support.stl"/>
      </geometry>
    </visual>
    <collision name="right_camera_support_collision">
      <origin rpy="0.0 0.0 0.0" xyz="0.0 0.0 0.0"/>
      <geometry>
        <mesh filename="package://yam_arm_description/meshes/camera_support.stl"/>
      </geometry>
    </collision>
  </link>
  <joint name="right_link_6_to_camera_support_fixed" type="fixed">
    <parent link="right_link_6"/>
    <child link="right_camera_support"/>
    <origin rpy="1.5708 1.5708 3.14159" xyz="-0.02618 0.04089 0.05052"/>
  </joint>
  <link name="right_d435">
    <inertial>
      <origin rpy="0.0 0.0 0.0" xyz="0.0 0.0 0.0"/>
      <mass value="0.072"/>
      <inertia ixx="0.0001" ixy="0" ixz="0" iyy="0.0001" iyz="0" izz="0.0001"/>
    </inertial>
    <visual name="right_d435_visual">
      <origin rpy="0.0 0.0 0.0" xyz="0.0 0.0 0.0"/>
      <geometry>
        <mesh filename="package://yam_arm_description/meshes/D435.obj"/>
      </geometry>
    </visual>
    <collision name="right_d435_collision">
      <origin rpy="0.0 0.0 0.0" xyz="0.0 0.0 0.0"/>
      <geometry>
        <mesh filename="package://yam_arm_description/meshes/D435.obj"/>
      </geometry>
    </collision>
  </link>
  <joint name="right_camera_support2d435_fixed" type="fixed">
    <parent link="right_camera_support"/>
    <child link="right_d435"/>
    <origin rpy="2.6180 0.0 -1.5708" xyz="-0.03014 0.00604 0.06023"/>
  </joint>
</robot>
